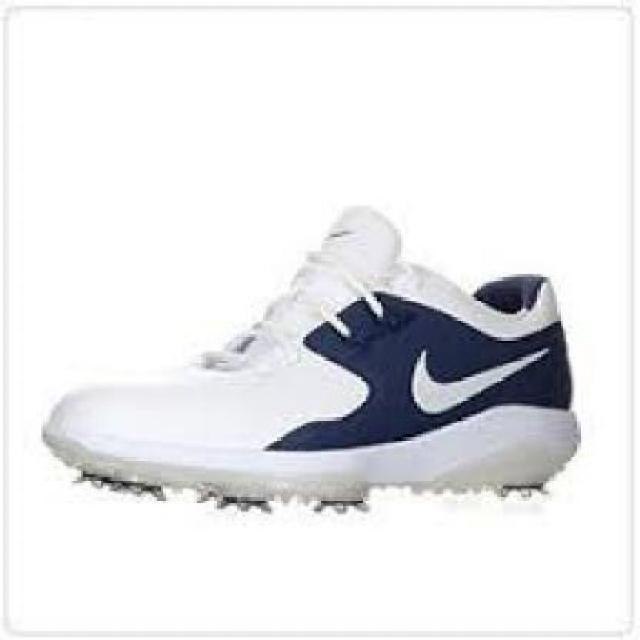Nike: (406, 339, 552, 412)
